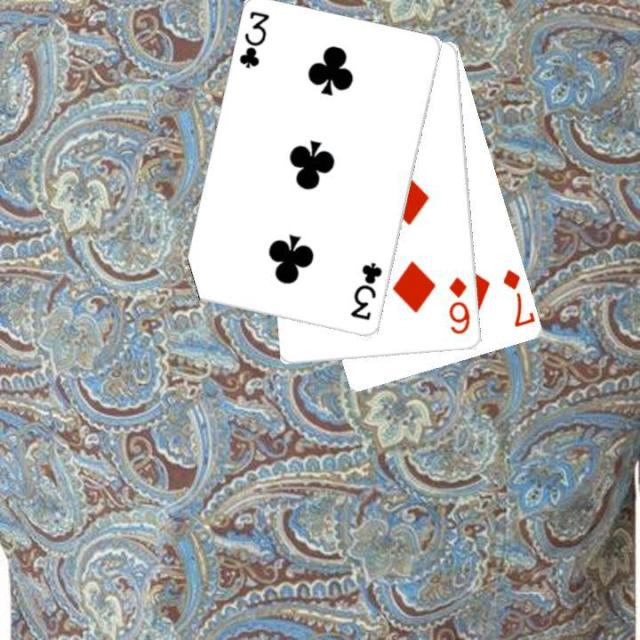3C: (347, 258, 385, 322), (236, 7, 271, 71)
6D: (445, 274, 473, 337)
7D: (499, 265, 535, 330)
